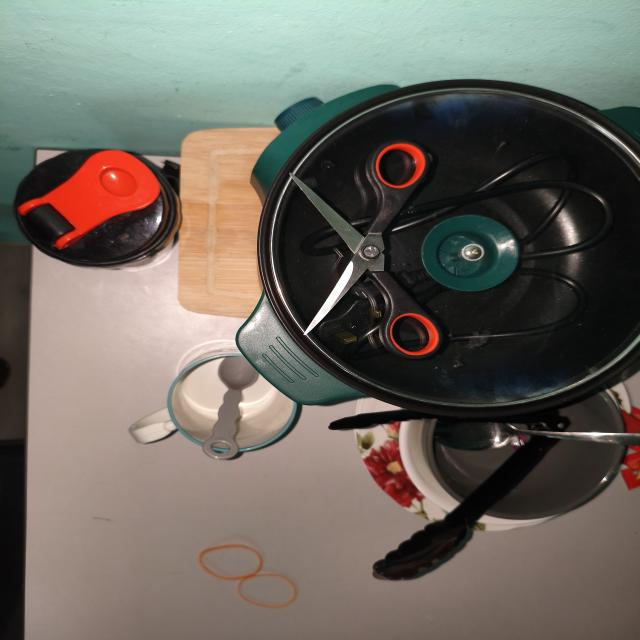scissor: (290, 141, 442, 359)
